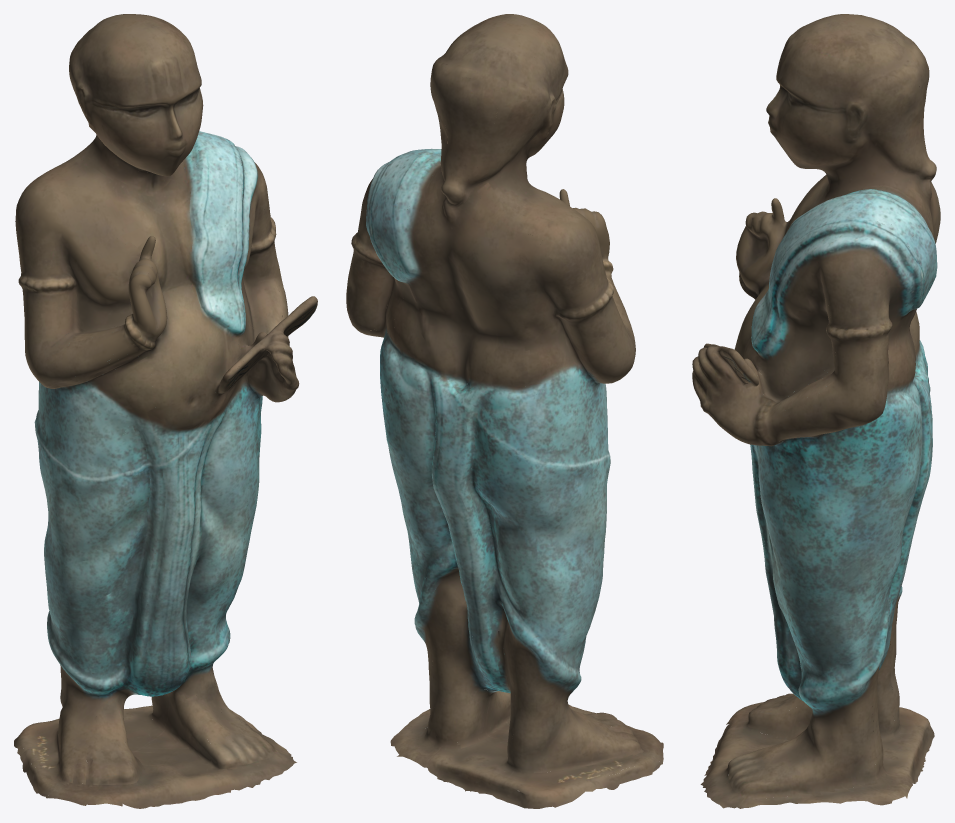
Rendered from Pandit.glb.
The picture shows the model from 3 angles, left to right: view 1: azimuth 30°, elevation 25°; view 2: azimuth 150°, elevation 25°; view 3: azimuth 270°, elevation 25°; orthographic projection. The views are drawn at different scales.
Visible parts, largest first — view 1: Pandit_export; view 2: Pandit_export; view 3: Pandit_export.
Boxes of the visible parts, bbox=[...] form: Pandit_export: bbox=[14, 14, 317, 808]; Pandit_export: bbox=[346, 14, 663, 808]; Pandit_export: bbox=[692, 14, 940, 808].
Size of the model in its own units: 4.13 by 10.65 by 3.2.
1 material, 1 textured.
